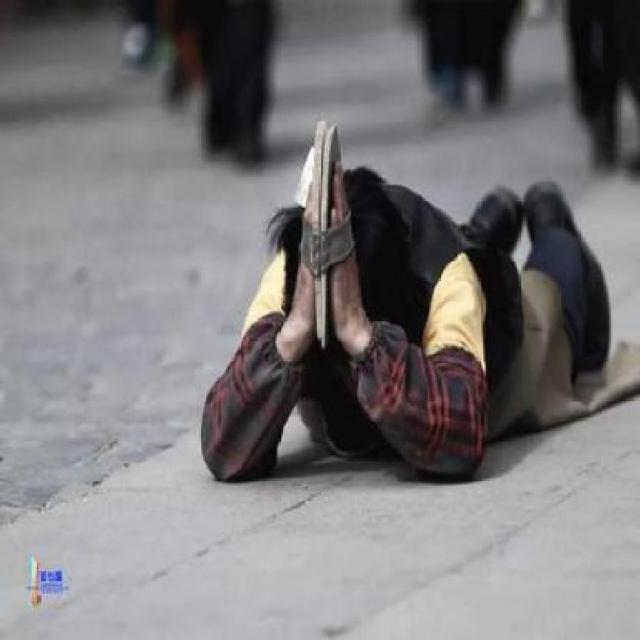fall: (205, 106, 620, 474)
